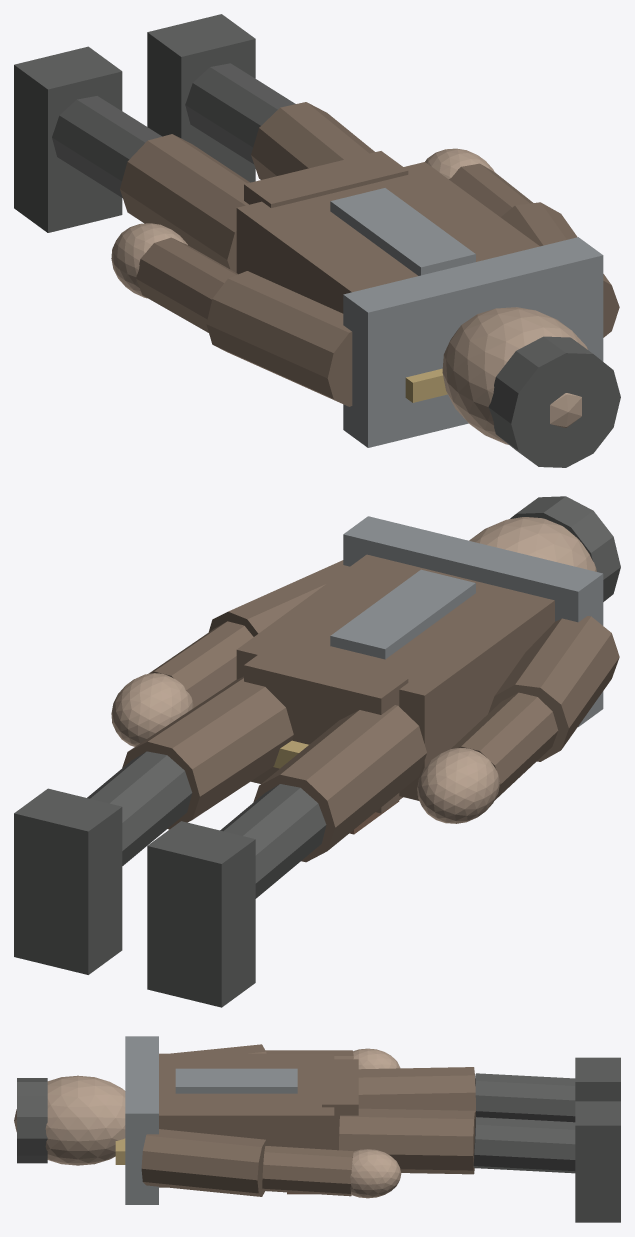
Rendered from SM_CharacterHero_Preview.glb.
The picture shows the model from 3 angles, top to bottom: view 1: azimuth 30°, elevation 25°; view 2: azimuth 150°, elevation 25°; view 3: azimuth 270°, elevation 25°; orthographic projection. The views are drawn at different scales.
Parts seen in each view (by area): view 1: SM_CharacterHero_Preview_001, SM_CharacterHero_Preview_017, SM_CharacterHero_Preview_011, SM_CharacterHero_Preview_010, SM_CharacterHero_Preview_015, SM_CharacterHero_Preview_013, SM_CharacterHero_Preview_005, SM_CharacterHero_Preview_016, SM_CharacterHero_Preview_000, SM_CharacterHero_Preview_012, SM_CharacterHero_Preview_006, SM_CharacterHero_Preview_007 (+7 smaller); view 2: SM_CharacterHero_Preview_017, SM_CharacterHero_Preview_011, SM_CharacterHero_Preview_005, SM_CharacterHero_Preview_013, SM_CharacterHero_Preview_007, SM_CharacterHero_Preview_001, SM_CharacterHero_Preview_014, SM_CharacterHero_Preview_010, SM_CharacterHero_Preview_000, SM_CharacterHero_Preview_012, SM_CharacterHero_Preview_006, SM_CharacterHero_Preview_009 (+6 smaller); view 3: SM_CharacterHero_Preview_017, SM_CharacterHero_Preview_007, SM_CharacterHero_Preview_004, SM_CharacterHero_Preview_016, SM_CharacterHero_Preview_005, SM_CharacterHero_Preview_006, SM_CharacterHero_Preview_013, SM_CharacterHero_Preview_001, SM_CharacterHero_Preview_012, SM_CharacterHero_Preview_003, SM_CharacterHero_Preview_000, SM_CharacterHero_Preview_015 (+7 smaller).
Boxes of the visible parts, x1=… form: SM_CharacterHero_Preview_001: x1=343, y1=237, x2=603, y2=447; SM_CharacterHero_Preview_017: x1=236, y1=162, x2=539, y2=313; SM_CharacterHero_Preview_011: x1=14, y1=46, x2=122, y2=232; SM_CharacterHero_Preview_010: x1=206, y1=271, x2=352, y2=406; SM_CharacterHero_Preview_015: x1=488, y1=336, x2=620, y2=467; SM_CharacterHero_Preview_013: x1=120, y1=134, x2=249, y2=272; SM_CharacterHero_Preview_005: x1=147, y1=14, x2=255, y2=182; SM_CharacterHero_Preview_016: x1=442, y1=307, x2=587, y2=444; SM_CharacterHero_Preview_000: x1=330, y1=188, x2=475, y2=275; SM_CharacterHero_Preview_012: x1=52, y1=96, x2=161, y2=197; SM_CharacterHero_Preview_006: x1=185, y1=63, x2=295, y2=163; SM_CharacterHero_Preview_007: x1=251, y1=102, x2=374, y2=179; SM_CharacterHero_Preview_017: x1=236, y1=554, x2=554, y2=800; SM_CharacterHero_Preview_011: x1=147, y1=821, x2=255, y2=1007; SM_CharacterHero_Preview_005: x1=14, y1=788, x2=122, y2=974; SM_CharacterHero_Preview_013: x1=253, y1=705, x2=426, y2=862; SM_CharacterHero_Preview_007: x1=122, y1=676, x2=293, y2=829; SM_CharacterHero_Preview_001: x1=343, y1=516, x2=603, y2=726; SM_CharacterHero_Preview_014: x1=244, y1=645, x2=408, y2=813; SM_CharacterHero_Preview_010: x1=488, y1=616, x2=619, y2=761; SM_CharacterHero_Preview_000: x1=330, y1=569, x2=475, y2=659; SM_CharacterHero_Preview_012: x1=220, y1=784, x2=326, y2=898; SM_CharacterHero_Preview_006: x1=87, y1=751, x2=192, y2=865; SM_CharacterHero_Preview_009: x1=451, y1=692, x2=558, y2=800; SM_CharacterHero_Preview_017: x1=159, y1=1053, x2=334, y2=1187; SM_CharacterHero_Preview_007: x1=339, y1=1108, x2=475, y2=1174; SM_CharacterHero_Preview_004: x1=141, y1=1129, x2=269, y2=1196; SM_CharacterHero_Preview_016: x1=14, y1=1075, x2=125, y2=1165; SM_CharacterHero_Preview_005: x1=575, y1=1101, x2=620, y2=1222; SM_CharacterHero_Preview_006: x1=473, y1=1117, x2=575, y2=1173; SM_CharacterHero_Preview_013: x1=358, y1=1067, x2=475, y2=1117; SM_CharacterHero_Preview_001: x1=125, y1=1036, x2=158, y2=1204; SM_CharacterHero_Preview_012: x1=475, y1=1073, x2=575, y2=1122; SM_CharacterHero_Preview_003: x1=262, y1=1146, x2=353, y2=1196; SM_CharacterHero_Preview_000: x1=175, y1=1068, x2=297, y2=1093; SM_CharacterHero_Preview_015: x1=17, y1=1078, x2=47, y2=1163.
Bounding box in the file's own units: 0.95 × 0.41 × 1.99.
